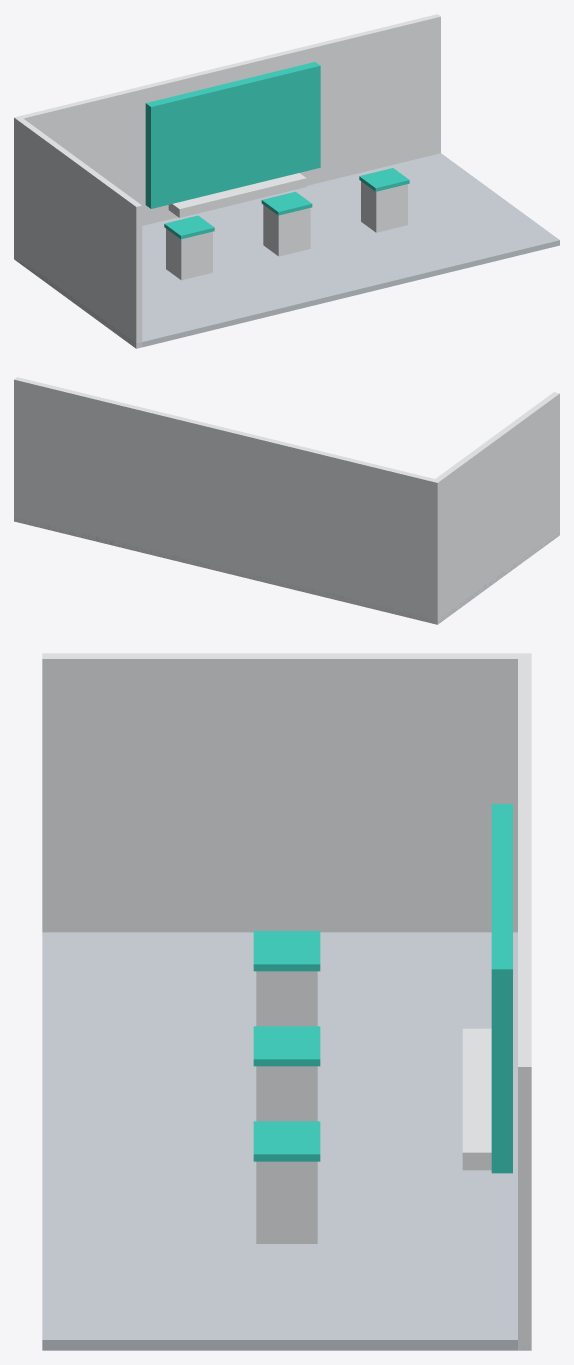
The picture shows the model from 3 angles, top to bottom: view 1: azimuth 30°, elevation 25°; view 2: azimuth 150°, elevation 25°; view 3: azimuth 270°, elevation 25°; orthographic projection. The views are drawn at different scales.
Parts seen in each view (by area): view 1: Exhibition Booth Concept; view 2: Exhibition Booth Concept; view 3: Exhibition Booth Concept.
Part boxes in pixels (<box>): Exhibition Booth Concept: <box>14,14,559,348</box>; Exhibition Booth Concept: <box>14,377,559,624</box>; Exhibition Booth Concept: <box>42,653,531,1350</box>.
Bounding box in the file's own units: 10 × 3.2 × 5.
